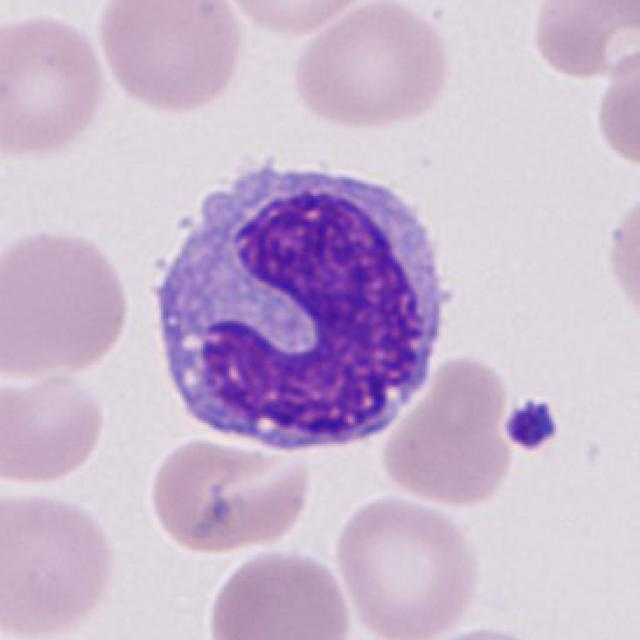Lymphocyte: (138, 146, 465, 465)
Platelets: (500, 396, 563, 454)
RBC: (144, 423, 316, 560), (329, 491, 484, 640), (376, 350, 518, 510), (286, 0, 454, 132), (0, 223, 136, 383), (0, 485, 120, 640), (94, 0, 248, 116), (0, 7, 112, 165), (203, 544, 355, 640), (0, 362, 110, 491), (526, 0, 638, 83), (591, 38, 640, 170), (217, 0, 379, 38), (600, 182, 640, 335), (399, 622, 558, 640)
